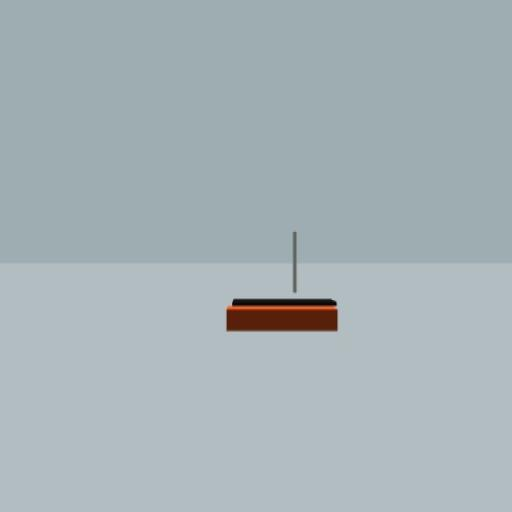vessel: (226, 231, 339, 333)
